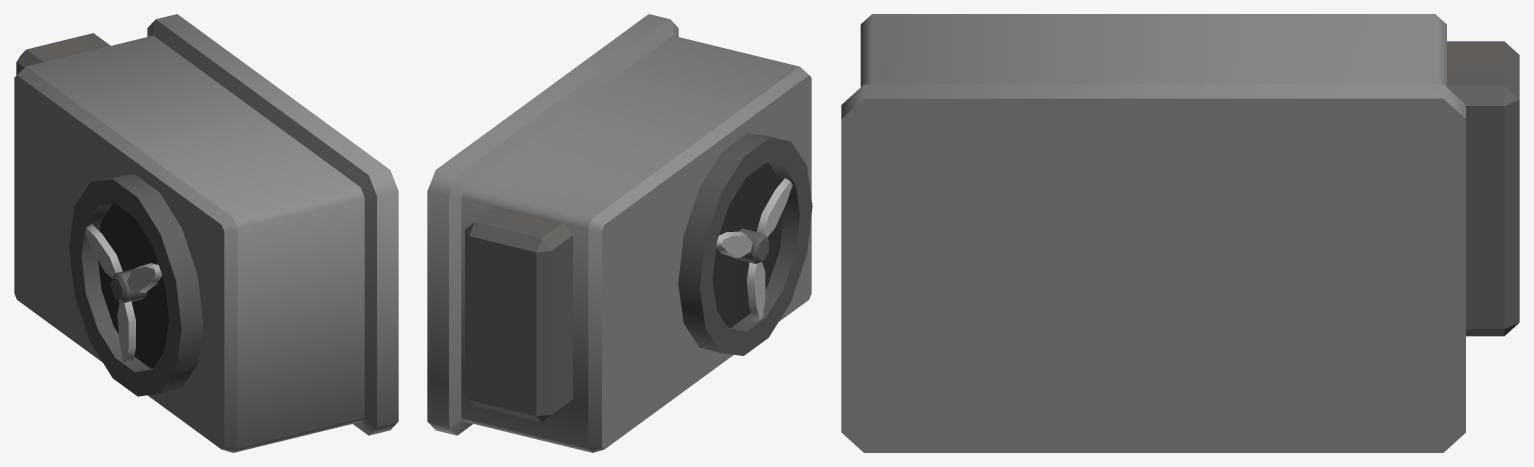
The model's file is VENTS_1_B.fbx.
3 renders of one model, left to right at view 1: azimuth 30°, elevation 25°; view 2: azimuth 150°, elevation 25°; view 3: azimuth 270°, elevation 25°, orthographic. The views are drawn at different scales.
Visible parts, largest first — view 1: VENTS_1_B, VENTS_1p_B; view 2: VENTS_1_B, VENTS_1p_B; view 3: VENTS_1_B.
Part boxes in pixels (x1=…): VENTS_1_B: x1=14, y1=14, x2=398, y2=452; VENTS_1p_B: x1=85, y1=224, x2=162, y2=364; VENTS_1_B: x1=427, y1=14, x2=812, y2=452; VENTS_1p_B: x1=716, y1=178, x2=792, y2=320; VENTS_1_B: x1=841, y1=14, x2=1519, y2=452.
Size of the model in its own units: 0.5235 by 0.6712 by 1.16.
